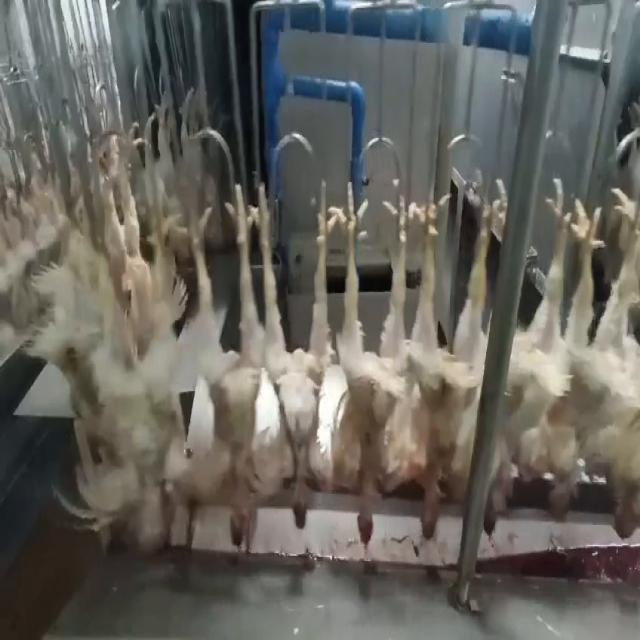chicken: (483, 184, 605, 536), (386, 195, 494, 545), (316, 188, 412, 551), (172, 180, 256, 542), (252, 185, 329, 539), (597, 186, 639, 540)
